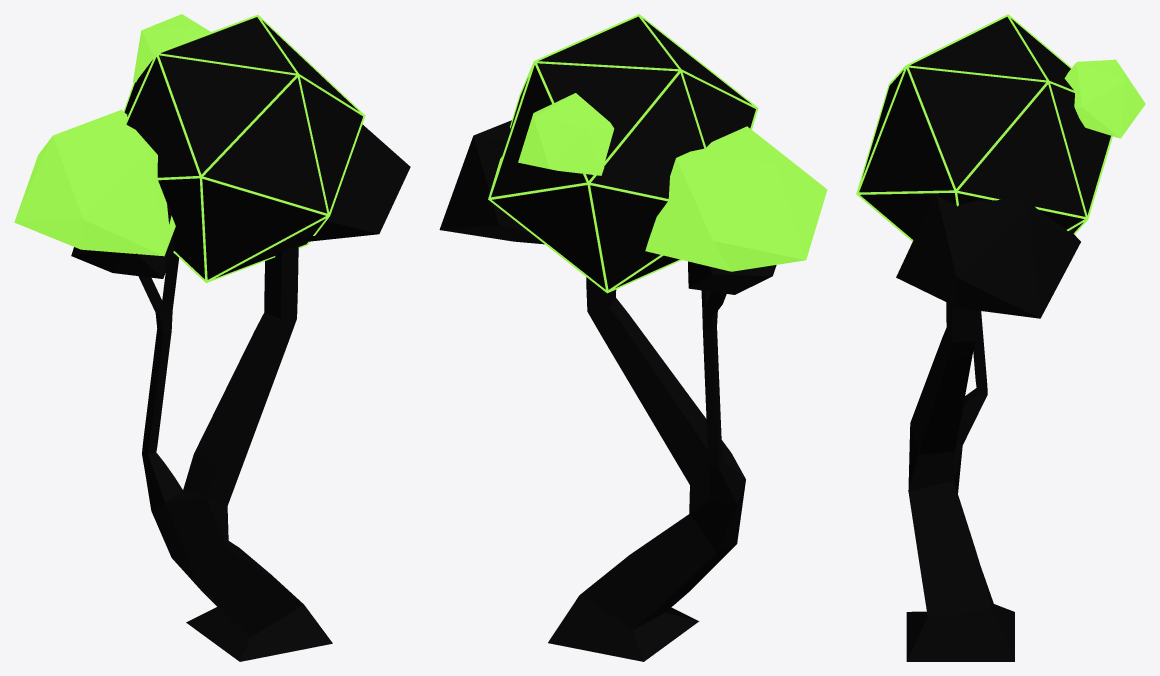
Rendered from Nature_tree_5.glb.
The picture shows the model from 3 angles, left to right: view 1: azimuth 30°, elevation 25°; view 2: azimuth 150°, elevation 25°; view 3: azimuth 270°, elevation 25°; orthographic projection. The views are drawn at different scales.
Parts seen in each view (by area): view 1: Icosphere.012; view 2: Icosphere.012; view 3: Icosphere.012.
Boxes of the visible parts, x1=… form: Icosphere.012: x1=14, y1=14, x2=410, y2=661; Icosphere.012: x1=439, y1=14, x2=827, y2=661; Icosphere.012: x1=856, y1=14, x2=1145, y2=661.
Bounding box in the file's own units: 2.83 × 4.39 × 1.97.
